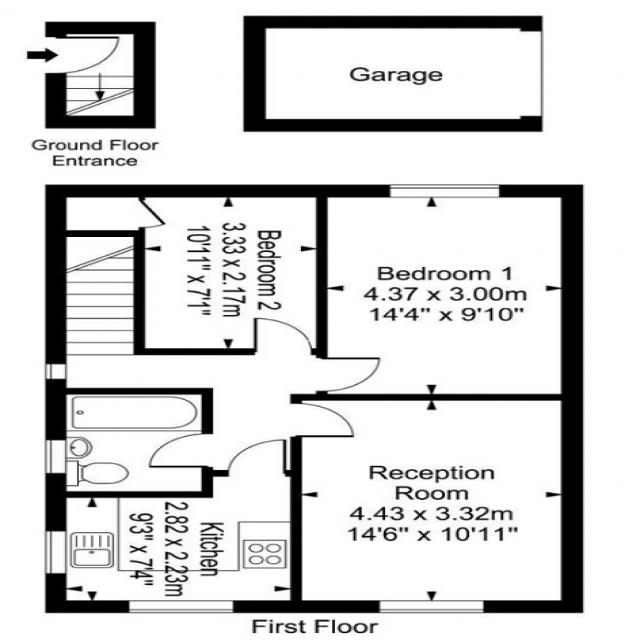DOOR: (225, 438, 289, 477), (315, 356, 382, 393), (251, 316, 314, 355), (289, 402, 355, 439), (147, 432, 213, 468)
ROOM: (290, 393, 584, 614), (315, 184, 584, 401), (45, 184, 328, 356), (44, 438, 302, 613)
WINDOW: (377, 599, 485, 614), (127, 599, 235, 614), (387, 184, 501, 198), (44, 530, 67, 575), (44, 439, 67, 475), (43, 363, 69, 381)
